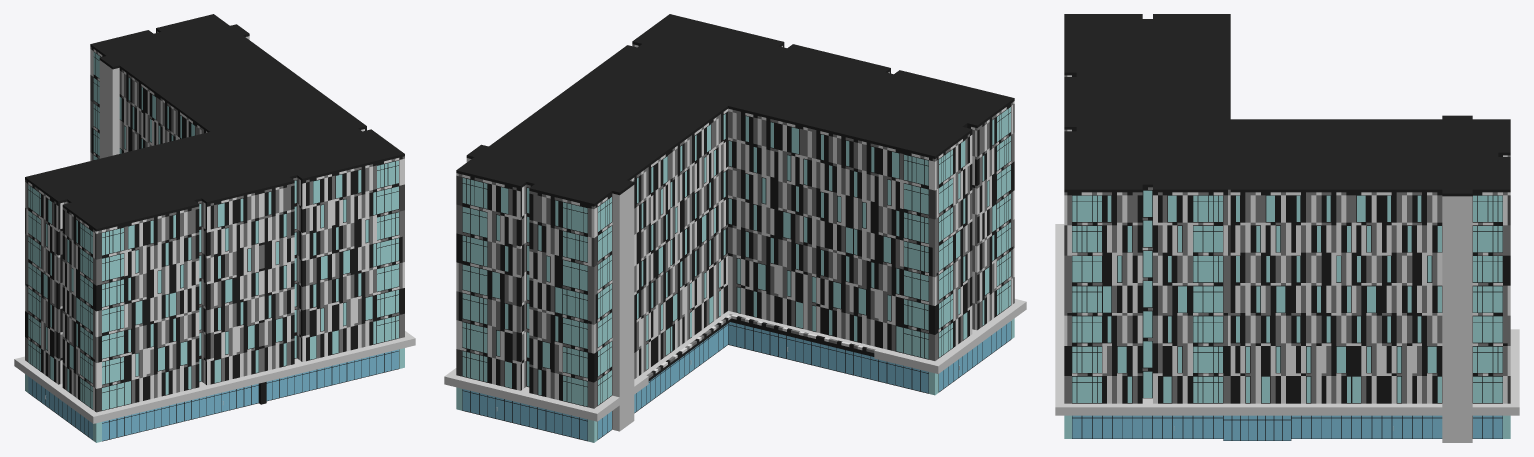
Rendered from University Building A.fbx.
The picture shows the model from 3 angles, left to right: view 1: azimuth 30°, elevation 25°; view 2: azimuth 150°, elevation 25°; view 3: azimuth 270°, elevation 25°; orthographic projection. The views are drawn at different scales.
Parts seen in each view (by area): view 1: G-Object; view 2: G-Object; view 3: G-Object.
Boxes of the visible parts, <box> form: G-Object: <box>14,14,415,442</box>; G-Object: <box>444,14,1026,442</box>; G-Object: <box>1055,14,1519,442</box>.
Bounding box in the file's own units: 7175 × 4550 × 7675.
